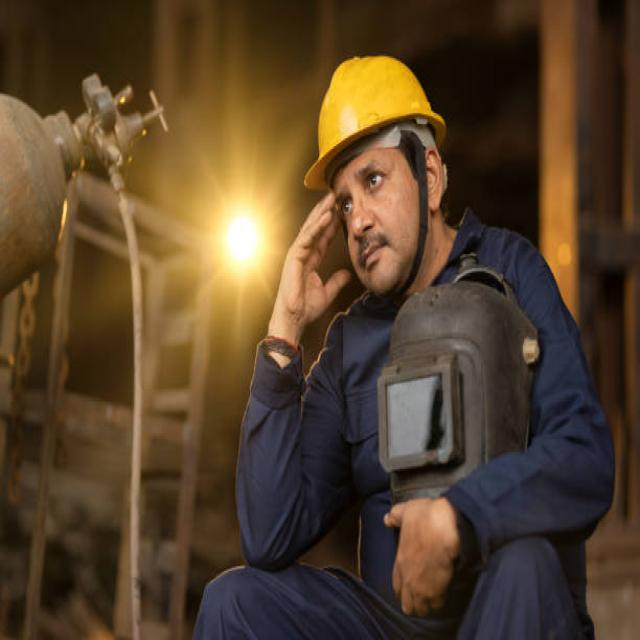without_helmet: (333, 128, 441, 294)
